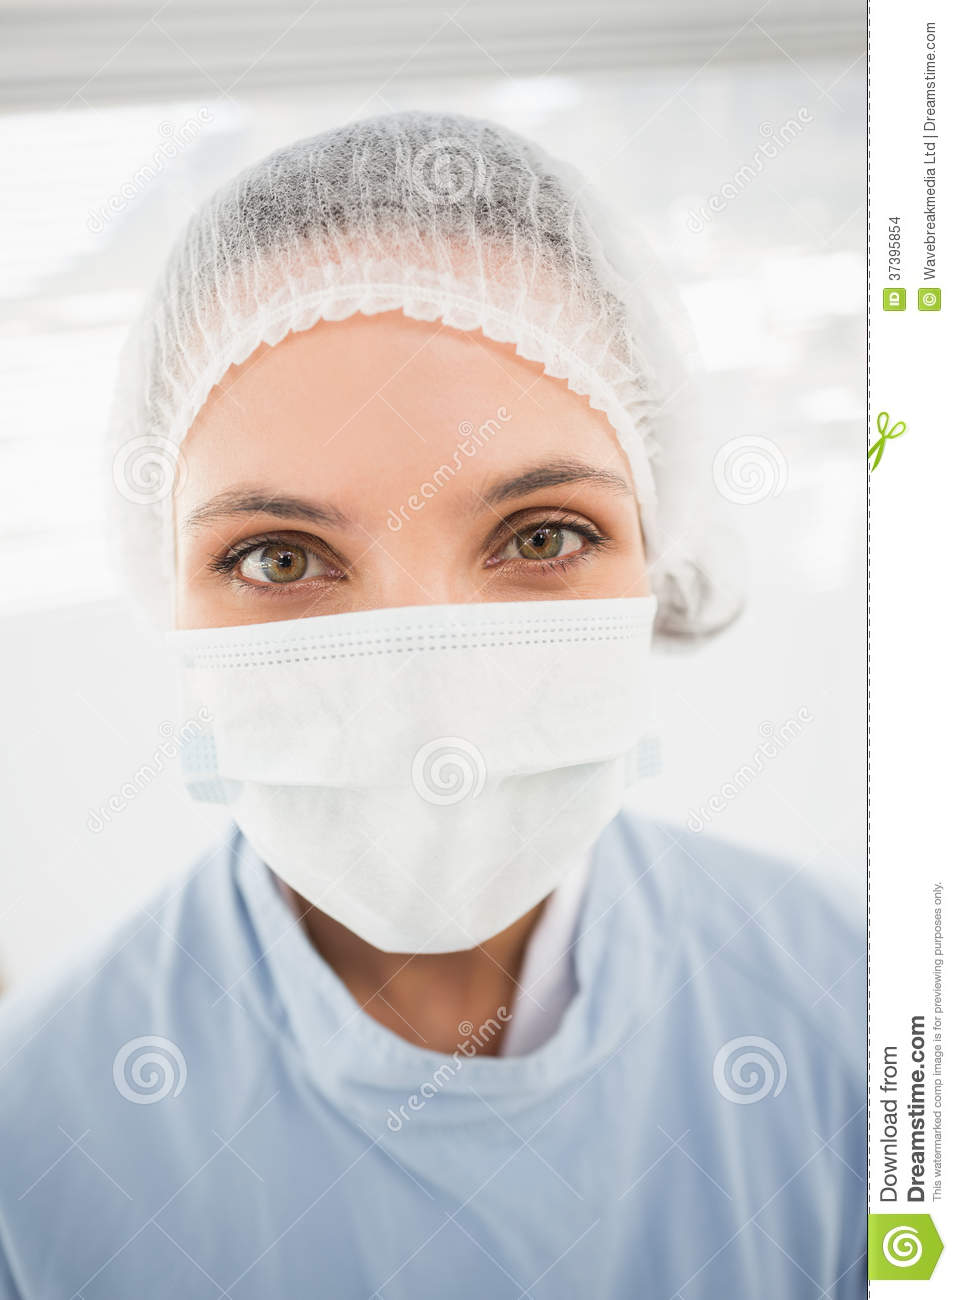mask: (156, 593, 682, 991)
